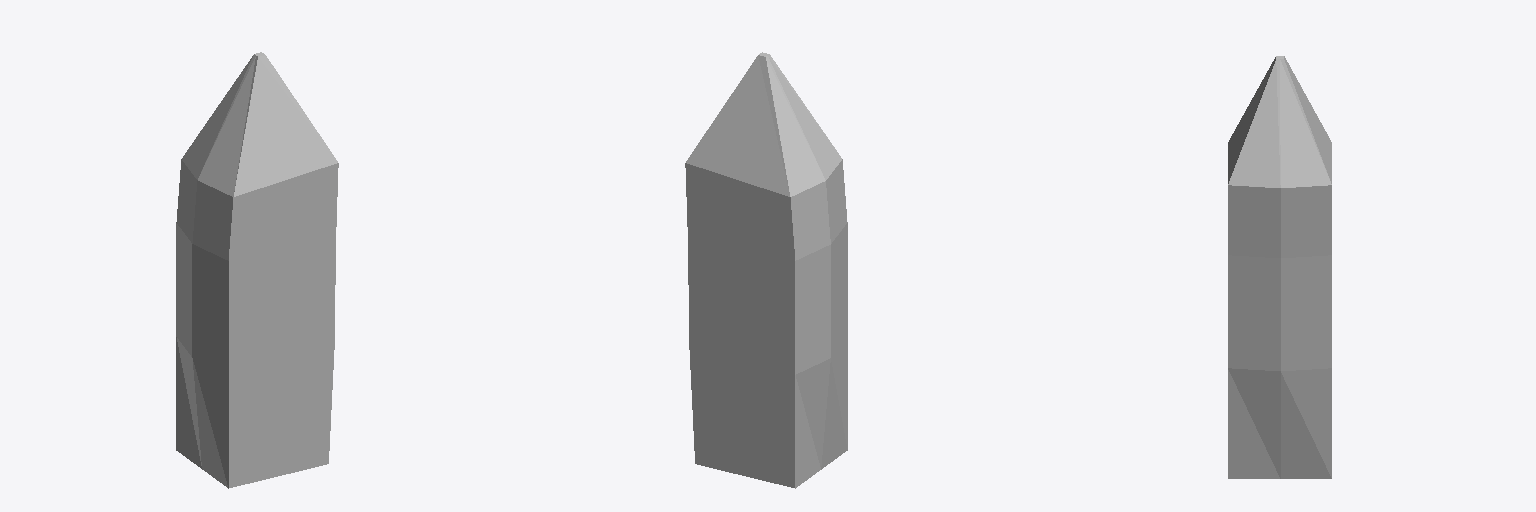
File: Pillar.obj
3 views of the same model, side by side, from view 1: azimuth 30°, elevation 25°; view 2: azimuth 150°, elevation 25°; view 3: azimuth 270°, elevation 25° (orthographic).
Parts seen in each view (by area): view 1: Cube.001; view 2: Cube.001; view 3: Cube.001.
Part boxes in pixels (x1,y1,x2,y2): Cube.001: (176,52,338,488); Cube.001: (685,52,847,488); Cube.001: (1228,56,1331,478).
Size of the model in its own units: 0.2535 by 0.7684 by 0.1811.